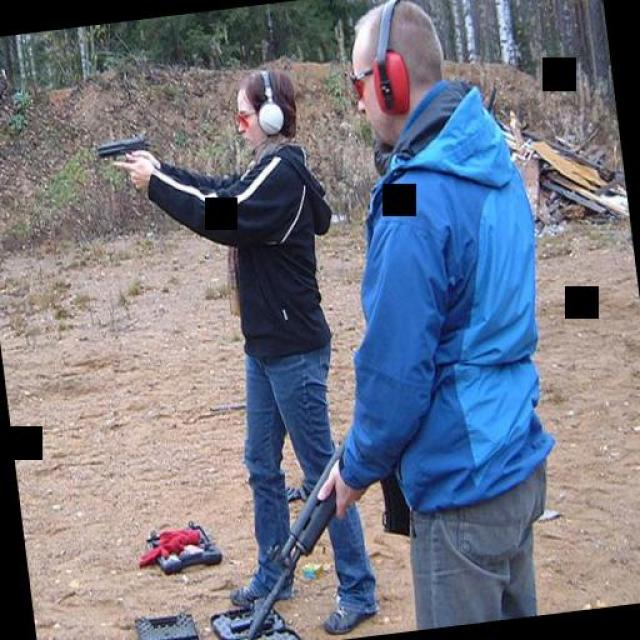gun: (95, 131, 156, 164)
